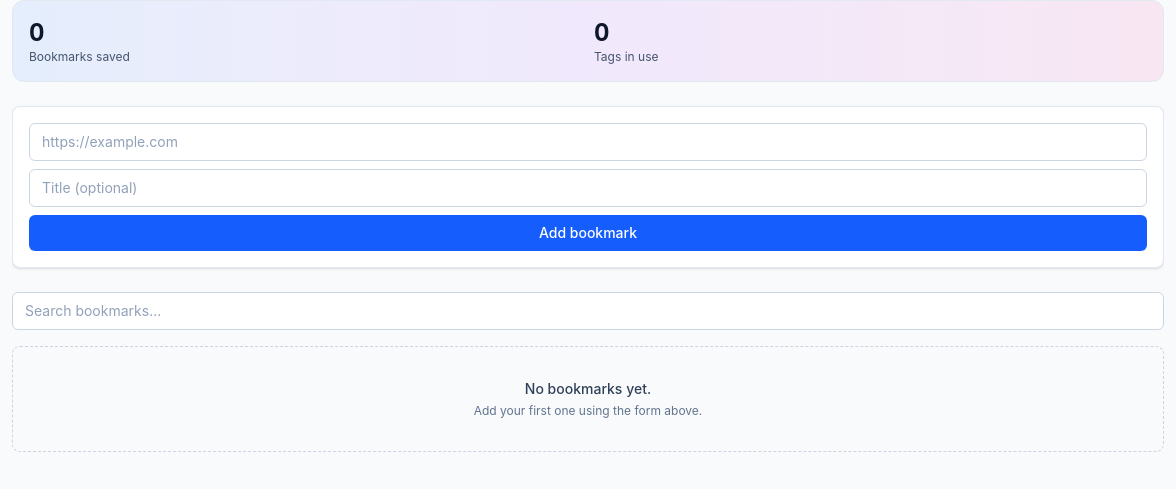
Test: BookmarksList › shows a validation error when the URL is empty
Check: the text "No bookmarks yet." is shown, box [525,380,651,397]
Click the button "Add bookmark" at (588, 233), box [29,215,1147,251]
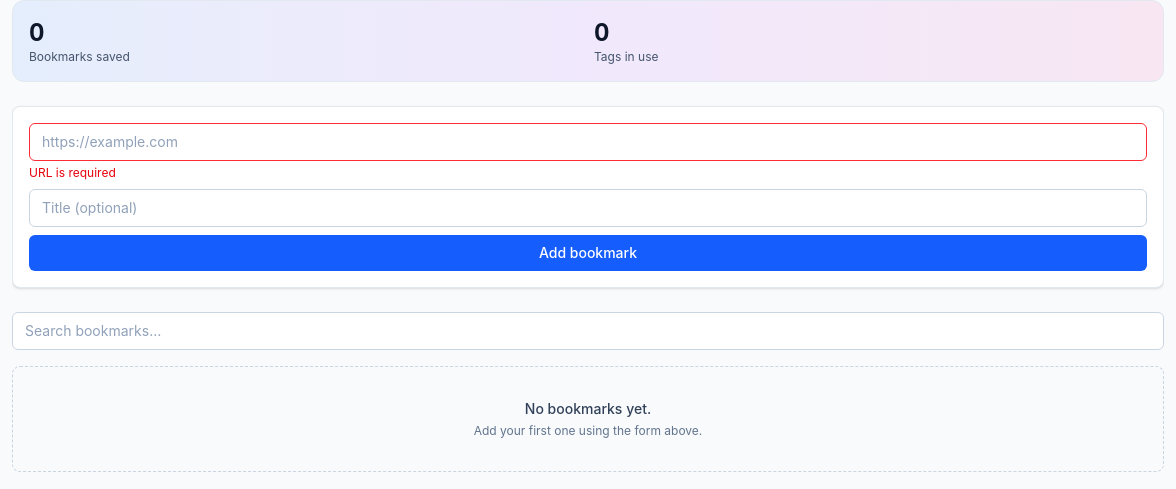
Check: the text "URL is required" is shown, box [29,165,116,180]
